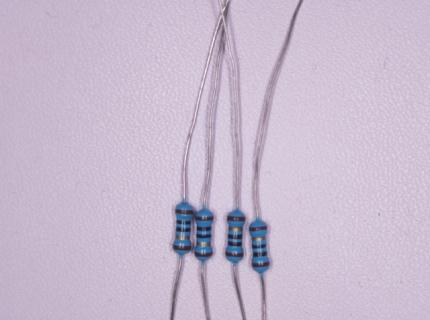Black band: (253, 251, 268, 258), (176, 226, 191, 233), (252, 244, 267, 250), (176, 219, 191, 225), (197, 226, 212, 232), (228, 241, 242, 247), (196, 234, 212, 239), (228, 234, 243, 239)
Brown band: (226, 215, 246, 222), (251, 261, 270, 268), (175, 208, 194, 215), (173, 245, 191, 252), (249, 226, 268, 232), (225, 252, 244, 258), (194, 252, 213, 258), (195, 216, 213, 221)
Gold band: (252, 235, 267, 242), (175, 234, 190, 240), (196, 242, 211, 247), (229, 227, 243, 232)
